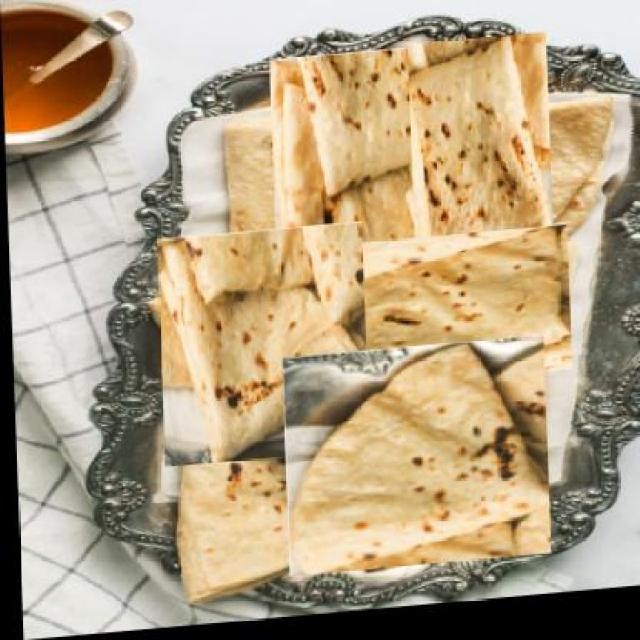chapati: (280, 345, 548, 583), (150, 233, 375, 467), (245, 77, 461, 301), (373, 74, 589, 298), (303, 233, 571, 399), (168, 405, 343, 609)
